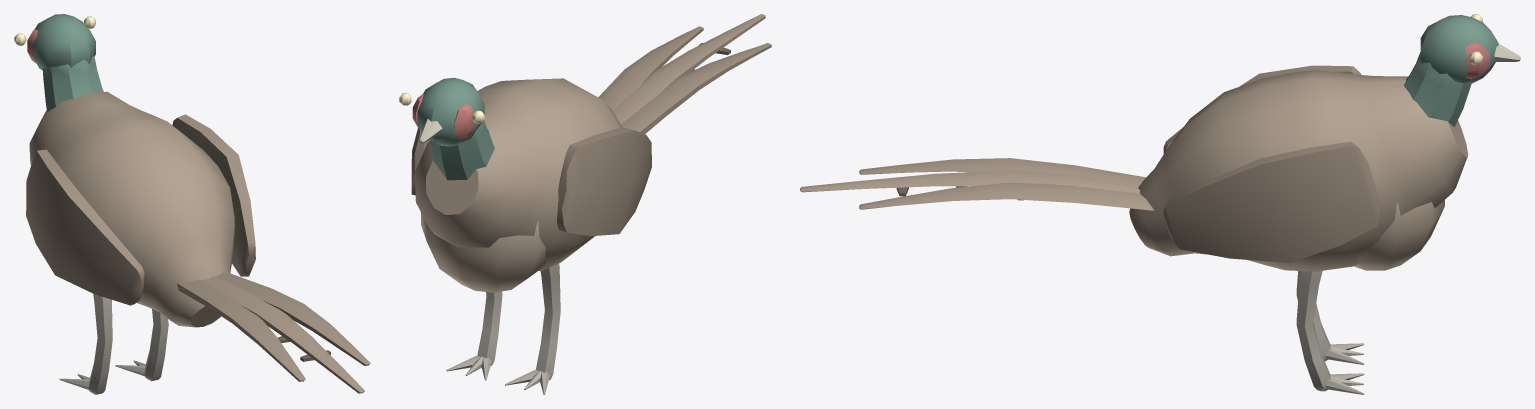
Rendered from hen.gltf.
3 renders of one model, left to right at view 1: azimuth 30°, elevation 25°; view 2: azimuth 150°, elevation 25°; view 3: azimuth 270°, elevation 25°, orthographic. The views are drawn at different scales.
Visible parts, largest first — view 1: Body, FlapL, FlapR, SwingA, SwingB; view 2: Body, FlapL, SwingA, SwingB, FlapR; view 3: Body, FlapR, SwingB, SwingA, FlapL.
Part boxes in pixels (<box>): Body: <box>14,14,370,393</box>; FlapL: <box>26,149,144,305</box>; FlapR: <box>172,114,255,276</box>; SwingA: <box>59,294,112,394</box>; SwingB: <box>115,309,168,381</box>; Body: <box>399,14,771,292</box>; FlapL: <box>557,127,651,236</box>; SwingA: <box>505,263,560,394</box>; SwingB: <box>446,291,502,380</box>; FlapR: <box>411,128,430,195</box>; Body: <box>800,14,1520,271</box>; FlapR: <box>1163,141,1379,262</box>; SwingB: <box>1296,271,1364,394</box>; SwingA: <box>1296,271,1364,364</box>; FlapL: <box>1163,65,1361,153</box>.
Bounding box in the file's own units: 0.3898 × 0.6668 × 1.22.
